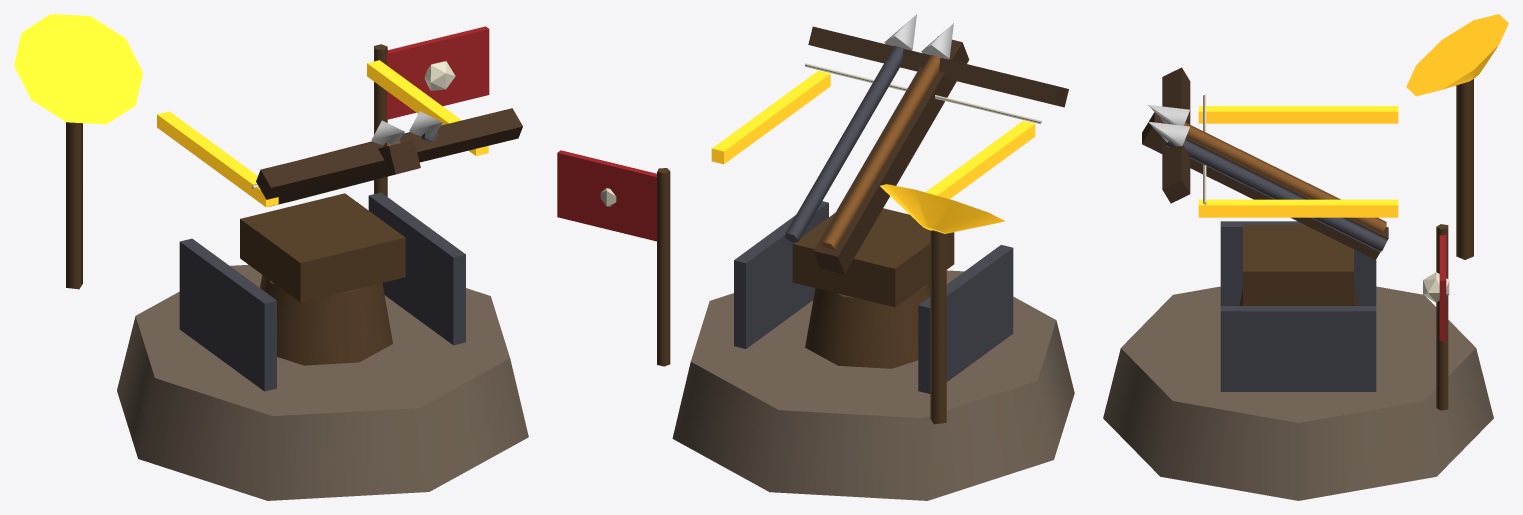
The model's file is goblin-level3.glb.
The picture shows the model from 3 angles, left to right: view 1: azimuth 30°, elevation 25°; view 2: azimuth 150°, elevation 25°; view 3: azimuth 270°, elevation 25°; orthographic projection. The views are drawn at different scales.
Visible parts, largest first — view 1: object 1, turret, object 10, object 7, object 2, object 8, object 5, object 9, object 4, object 6; view 2: object 1, turret, object 7, object 2, object 5, object 8, object 9, object 10, object 4; view 3: object 1, turret, object 8, object 10, object 7, object 9, object 4, object 5, object 6.
Boxes of the visible parts, x1,y1,x2,y2 form: object 1: [117, 264, 528, 500]; turret: [157, 60, 522, 302]; object 10: [14, 14, 142, 124]; object 7: [179, 238, 276, 391]; object 2: [260, 275, 392, 365]; object 8: [368, 192, 465, 345]; object 5: [386, 26, 489, 119]; object 9: [66, 122, 82, 289]; object 4: [374, 44, 387, 196]; object 6: [424, 61, 455, 90]; object 1: [672, 270, 1074, 500]; turret: [711, 14, 1068, 307]; object 7: [918, 245, 1013, 393]; object 2: [805, 282, 930, 368]; object 5: [557, 150, 656, 241]; object 8: [734, 201, 828, 348]; object 9: [930, 230, 946, 424]; object 10: [880, 184, 1005, 233]; object 4: [657, 168, 670, 366]; object 1: [1103, 286, 1493, 500]; turret: [1142, 67, 1398, 305]; object 8: [1220, 306, 1376, 391]; object 10: [1406, 14, 1508, 96]; object 7: [1220, 221, 1376, 305]; object 9: [1456, 79, 1473, 259]; object 4: [1436, 224, 1448, 410]; object 5: [1439, 235, 1446, 340]; object 6: [1423, 272, 1449, 302].
Size of the model in its own units: 2.44 by 1.81 by 2.05.
